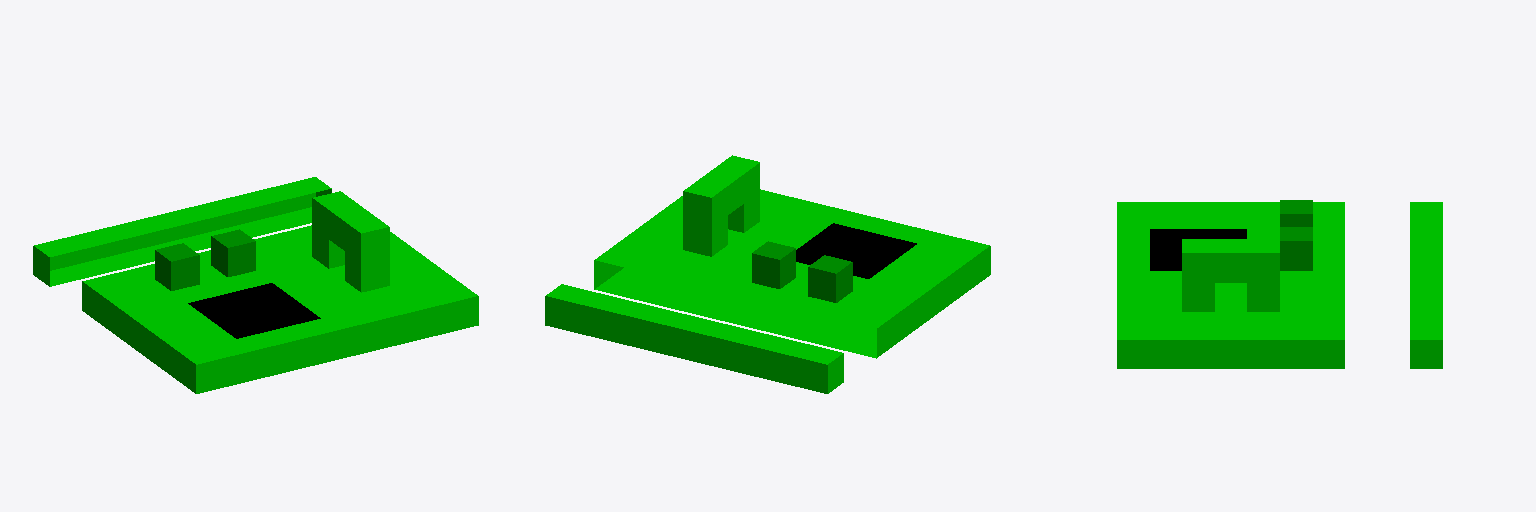
The picture shows the model from 3 angles: view 1: azimuth 30°, elevation 25°; view 2: azimuth 150°, elevation 25°; view 3: azimuth 270°, elevation 25°; orthographic projection.
Visible parts, largest first — view 1: HC_Small_Playground; view 2: HC_Small_Playground; view 3: HC_Small_Playground.
Boxes of the visible parts, <box> form: HC_Small_Playground: <box>33,177,478,393</box>; HC_Small_Playground: <box>545,155,990,393</box>; HC_Small_Playground: <box>1117,200,1442,368</box>.
Bounding box in the file's own units: 10 × 3 × 10.
Materials: 1 (1 with a texture image).